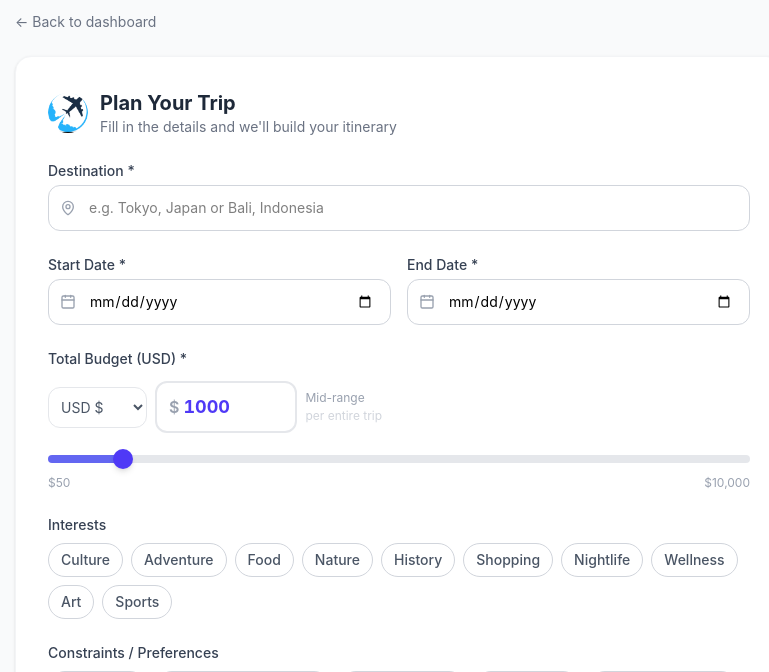
Test: PlanTripPage › shows destination suggestions when user types 2+ characters
Type "To" into the field labelled "Destination *" at (399, 208), box top-left (48, 185), bottom-right (750, 231)
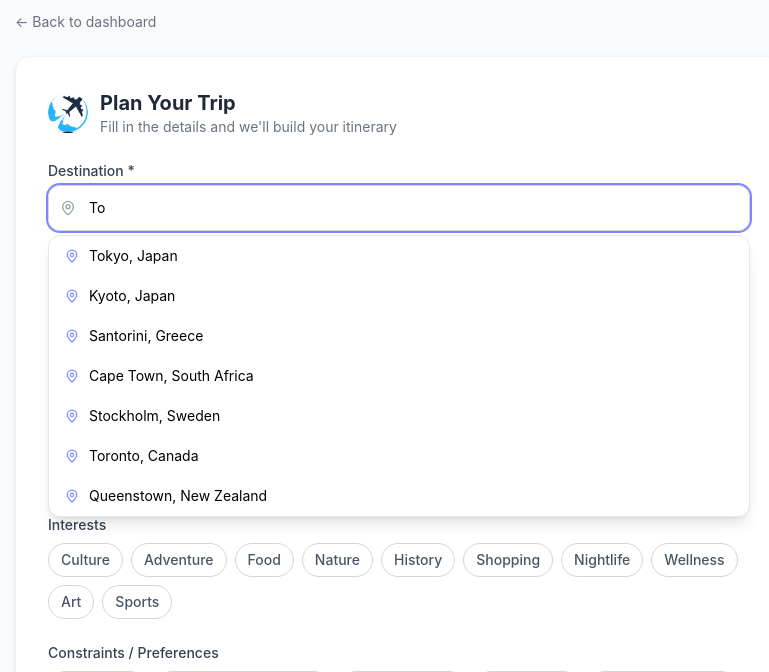
Expected: the button "Tokyo, Japan" is shown, top-left (49, 236), bottom-right (749, 276)
